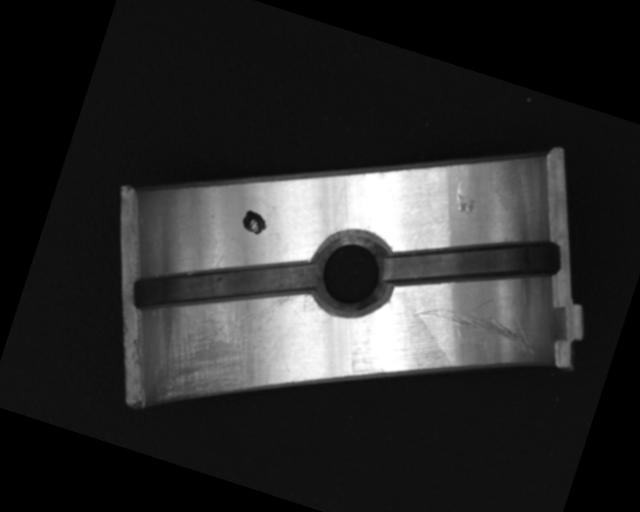blot: (238, 208, 271, 238)
bruise: (447, 177, 482, 216)
gap: (128, 213, 321, 360), (376, 194, 567, 330)
hole: (297, 219, 408, 332)
nick: (408, 273, 551, 360)
scratch: (144, 263, 295, 435)
